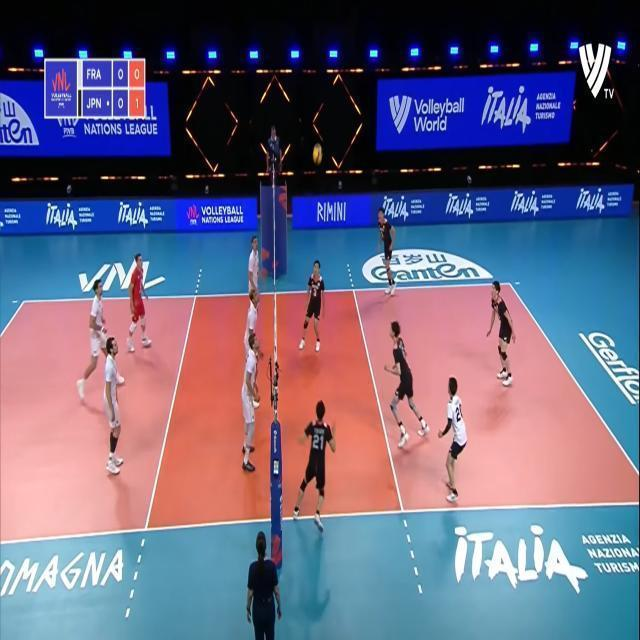volleyball: (312, 144, 322, 164)
